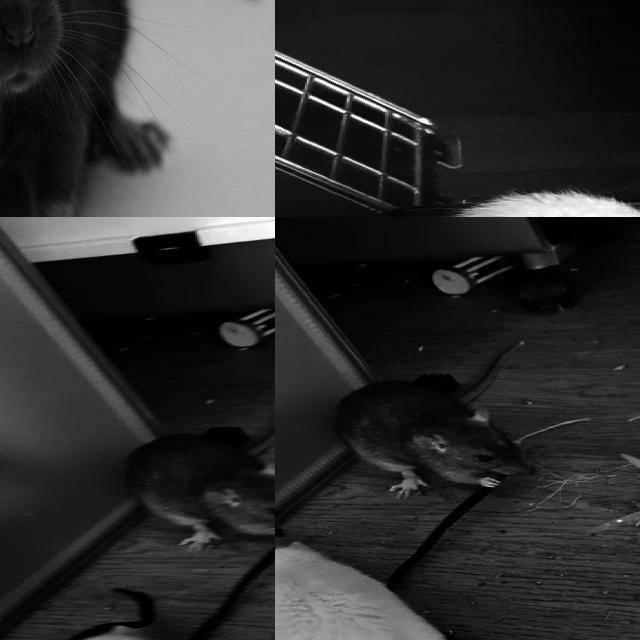rat: (0, 0, 125, 217), (337, 379, 538, 500), (275, 540, 498, 640), (119, 432, 275, 553)
